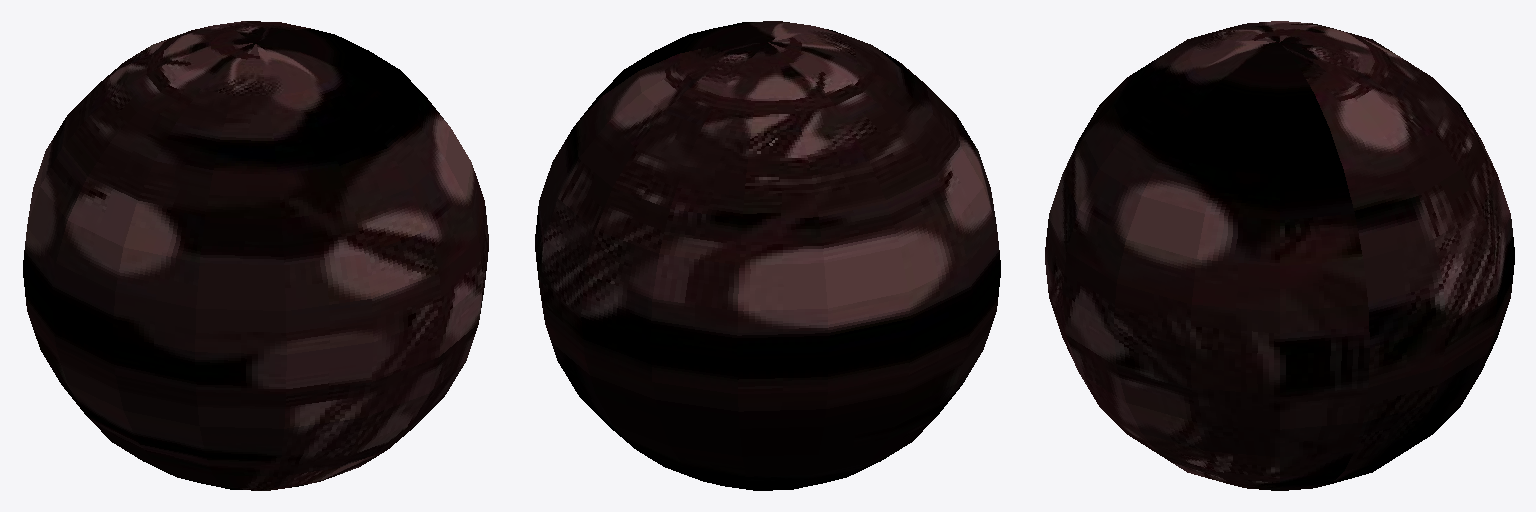
The picture shows the model from 3 angles: view 1: azimuth 30°, elevation 25°; view 2: azimuth 150°, elevation 25°; view 3: azimuth 270°, elevation 25°; orthographic projection.
Parts seen in each view (by area): view 1: pSphere1; view 2: pSphere1; view 3: pSphere1.
Boxes of the visible parts, x1=… form: pSphere1: x1=23, y1=21, x2=488, y2=490; pSphere1: x1=535, y1=21, x2=1000, y2=490; pSphere1: x1=1045, y1=21, x2=1514, y2=490.
Bounding box in the file's own units: 2 × 2 × 2.
Materials: 1 (1 with a texture image).